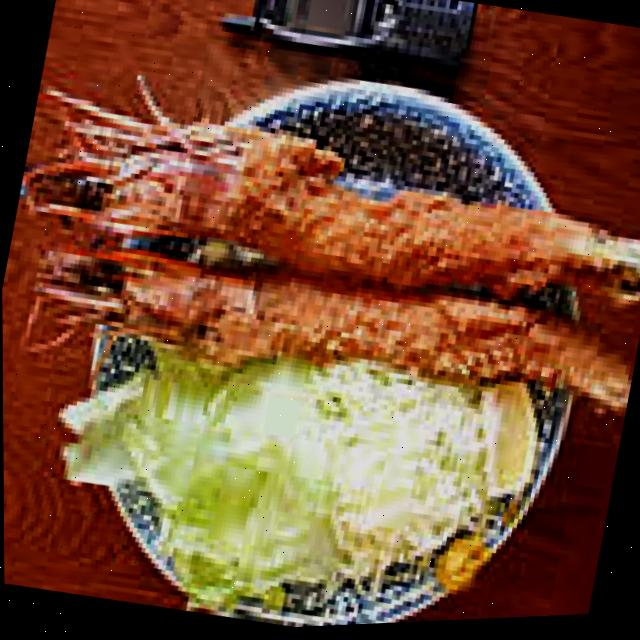炸货点心: (0, 18, 640, 494)
熟制海鲜: (0, 18, 640, 494)
